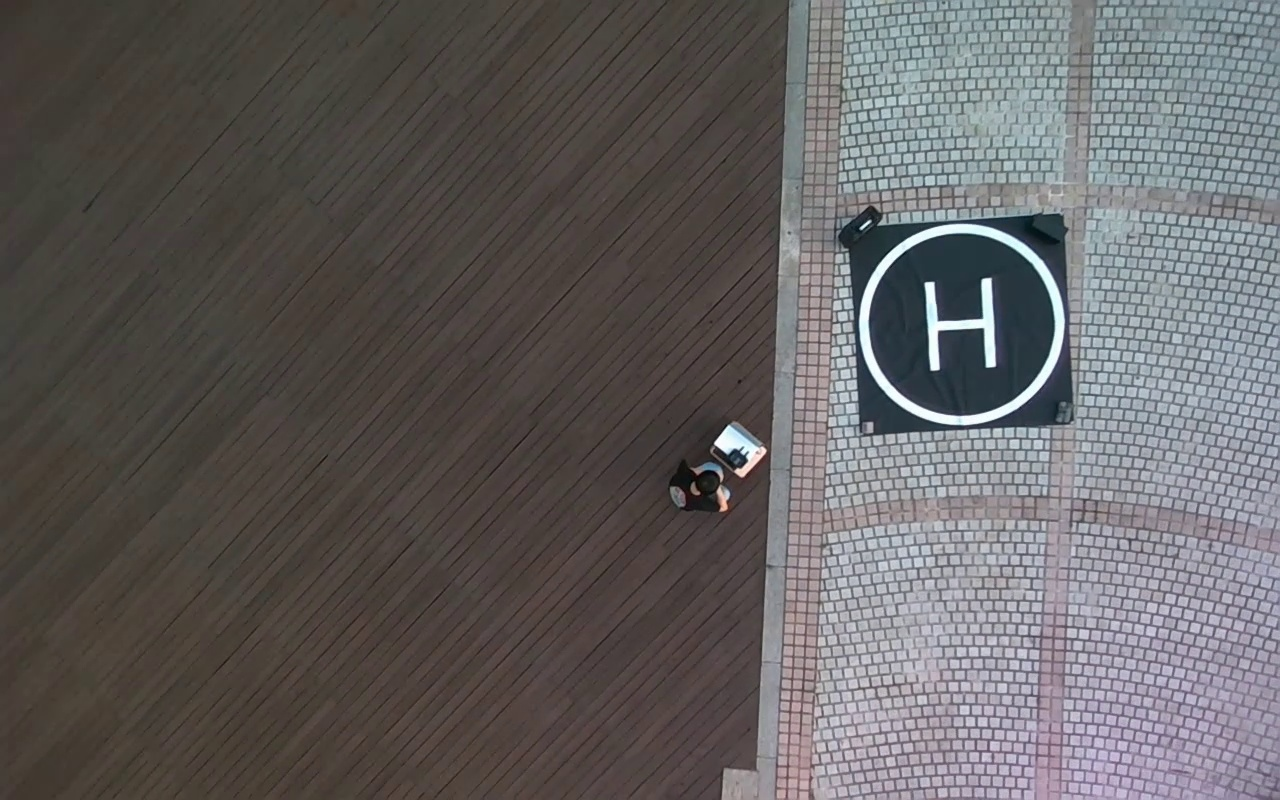H: (923, 276, 999, 370)
heliport: (858, 225, 1068, 426)
